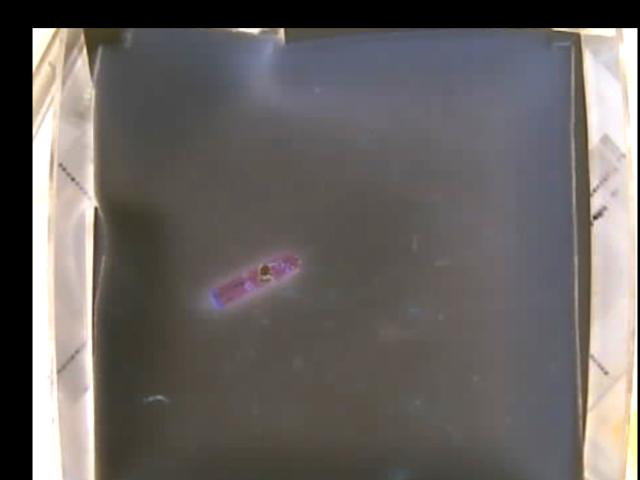Battery: (211, 251, 301, 306)
